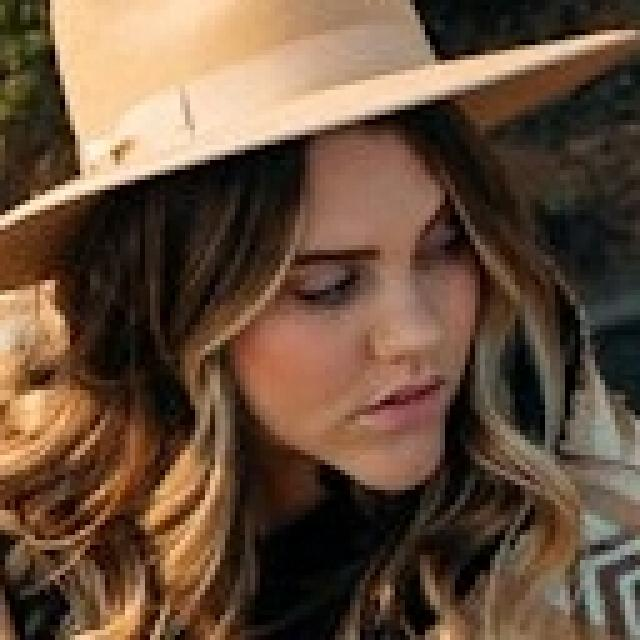front: (262, 207, 470, 463)
